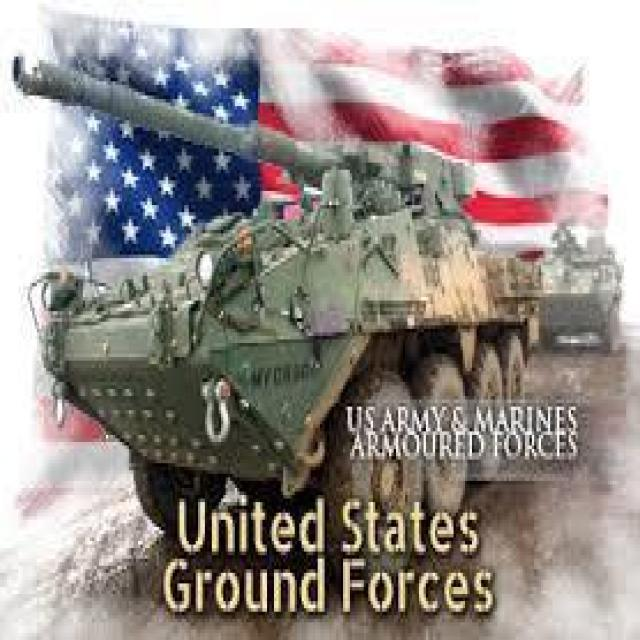MIL_MBT: (10, 16, 551, 613)
